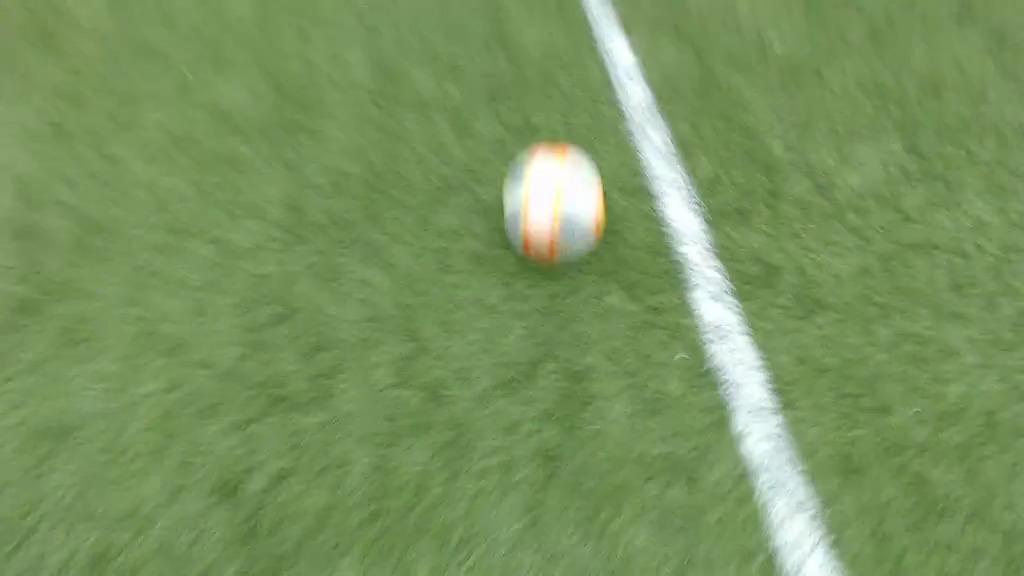ball: (504, 142, 605, 260)
